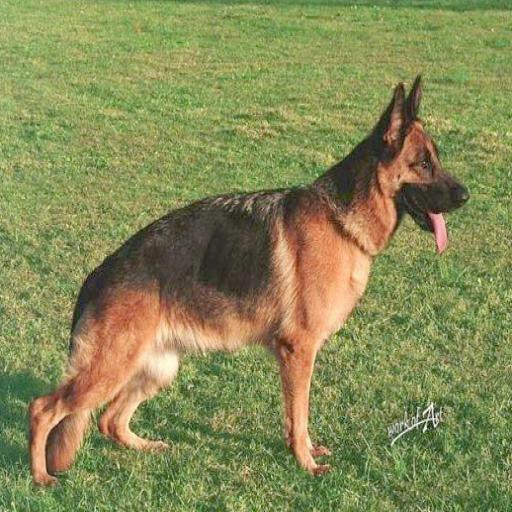dog_face: (378, 84, 472, 239)
